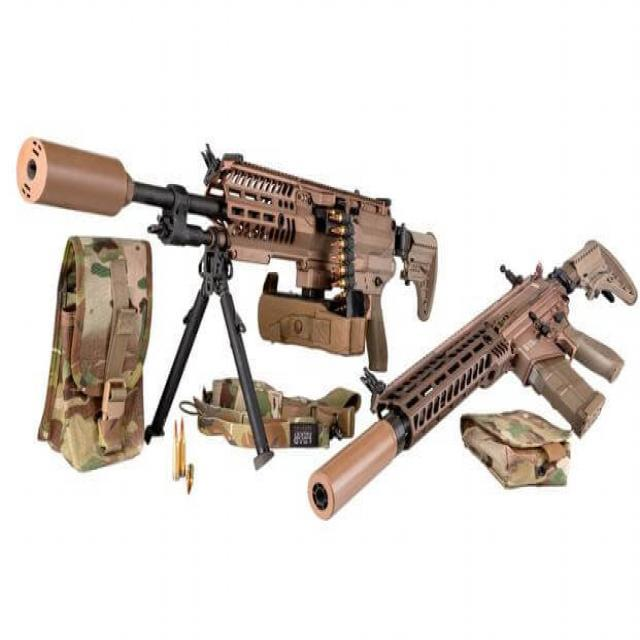machine gun: (7, 122, 448, 479)
rifle: (279, 227, 636, 519)
